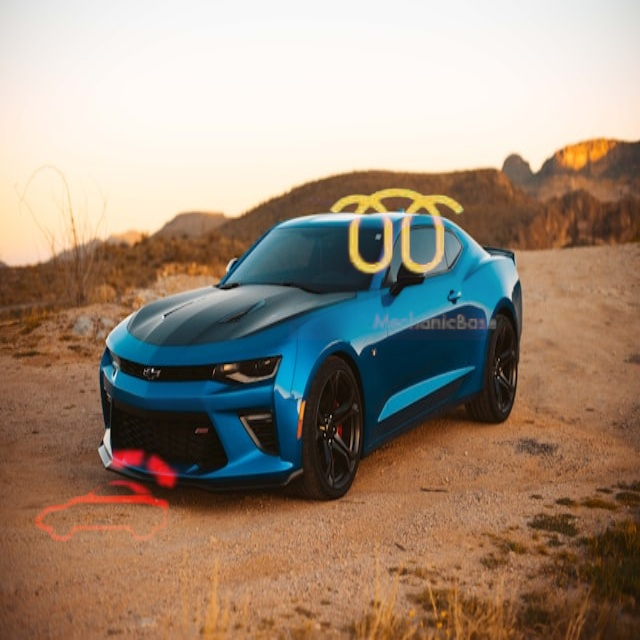symbol: (289, 124, 505, 340), (0, 394, 211, 605), (237, 34, 419, 216)
